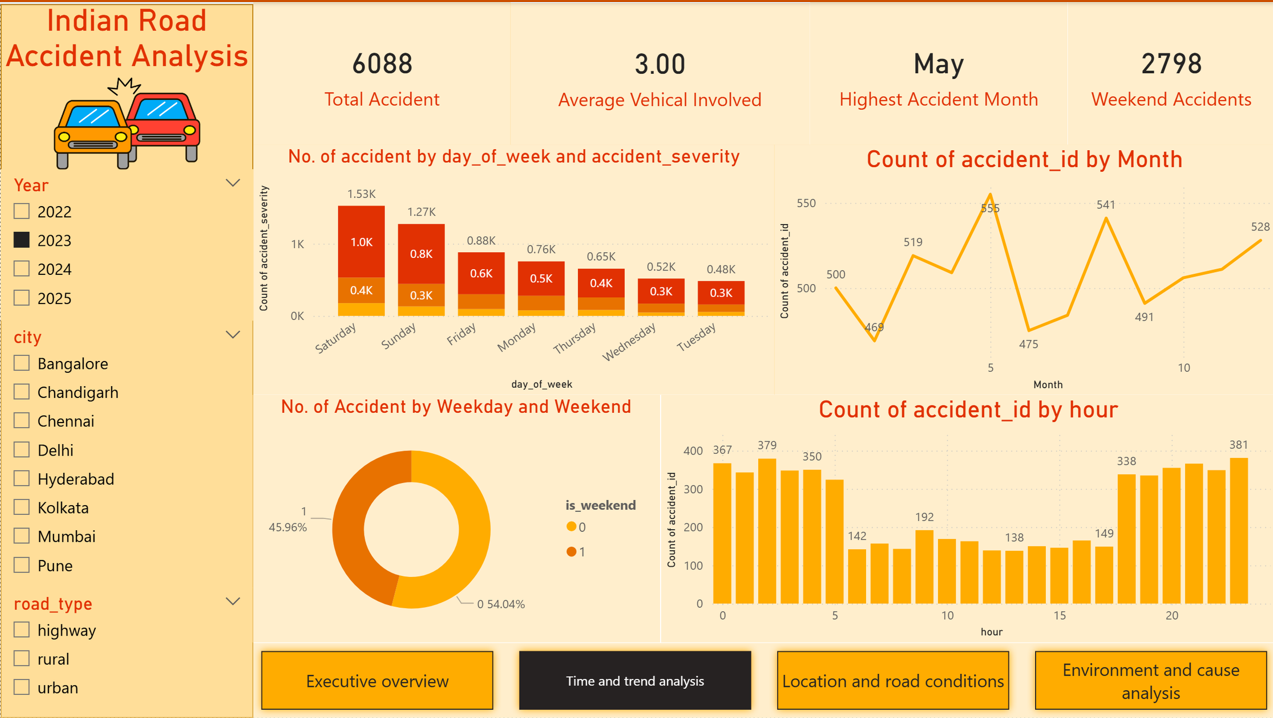

The dashboard page shown, as its layout file describes it:
{"tool":"powerbi","page":{"name":"Time and trend analysis","canvas":[1280,720],"ordinal":1},"visuals":[{"type":"shape","box":[0,2.5,253.8,718],"z":0},{"type":"card","fields":{"Values":["Table.Total Accident"]},"box":[253.8,0,258.7,143.6],"z":1000},{"type":"card","fields":{"Values":["Table.Average Vehical Involved"]},"box":[512,1.4,301.2,142.4],"z":2000},{"type":"columnChart","fields":{"Category":["indian_roads_dataset.hour"],"Y":["CountNonNull(indian_roads_dataset.accident_id)"]},"box":[662.8,395.4,617.2,248.9],"z":3000},{"type":"lineChart","fields":{"Category":["indian_roads_dataset.Month"],"Y":["CountNonNull(indian_roads_dataset.accident_id)"]},"box":[776.5,143.6,503.5,251.7],"z":4000},{"type":"slicer","fields":{"Values":["indian_roads_dataset.city"]},"box":[0,320.6,253.8,268.6],"z":5000},{"type":"slicer","fields":{"Values":["indian_roads_dataset.Year"]},"box":[0,168.4,253.8,152.3],"z":6000},{"type":"slicer","fields":{"Values":["indian_roads_dataset.road_type"]},"box":[0,589.2,253.8,131.2],"z":7000},{"type":"image","title":"Indian Road Accident Analysis","box":[0,0,253.8,168.4],"z":8000},{"type":"pageNavigator","box":[253.8,645,1026.2,75.5],"z":9000},{"type":"columnChart","title":"No. of accident by day_of_week and accident_severity","fields":{"Category":["indian_roads_dataset.day_of_week"],"Y":["CountNonNull(indian_roads_dataset.accident_severity)"],"Series":["indian_roads_dataset.accident_severity"]},"box":[253.8,143.6,523.6,251.3],"z":10000},{"type":"donutChart","title":"No. of Accident by Weekday and Weekend","fields":{"Category":["indian_roads_dataset.is_weekend"],"Y":["CountNonNull(indian_roads_dataset.accident_id)"]},"box":[253.2,395.4,409.6,248.9],"z":11000},{"type":"card","fields":{"Values":["Table.Highest Accident Month"]},"box":[813.2,0,258.7,143.7],"z":12000},{"type":"card","fields":{"Values":["Table.Weekend Accidents"]},"box":[1071.9,0,208.1,143.7],"z":13000}]}

Visuals, with their boxes in screenshot pixels (x1, y1, x2, y2), scaled from the page's 1280x720 canvas onto the 1273x718 screenshot:
shape: (left=0, top=2, right=252, bottom=717)
card - Table.Total Accident: (left=252, top=0, right=510, bottom=143)
card - Table.Average Vehical Involved: (left=509, top=1, right=809, bottom=143)
columnChart - indian_roads_dataset.hour x CountNonNull(indian_roads_dataset.accident_id): (left=659, top=394, right=1272, bottom=643)
lineChart - indian_roads_dataset.Month x CountNonNull(indian_roads_dataset.accident_id): (left=772, top=143, right=1272, bottom=394)
slicer - indian_roads_dataset.city: (left=0, top=320, right=252, bottom=588)
slicer - indian_roads_dataset.Year: (left=0, top=168, right=252, bottom=320)
slicer - indian_roads_dataset.road_type: (left=0, top=588, right=252, bottom=717)
"Indian Road Accident Analysis" image: (left=0, top=0, right=252, bottom=168)
pageNavigator: (left=252, top=643, right=1272, bottom=717)
"No. of accident by day_of_week and accident_severity" columnChart: (left=252, top=143, right=773, bottom=394)
"No. of Accident by Weekday and Weekend" donutChart: (left=252, top=394, right=659, bottom=643)
card - Table.Highest Accident Month: (left=809, top=0, right=1066, bottom=143)
card - Table.Weekend Accidents: (left=1066, top=0, right=1272, bottom=143)
